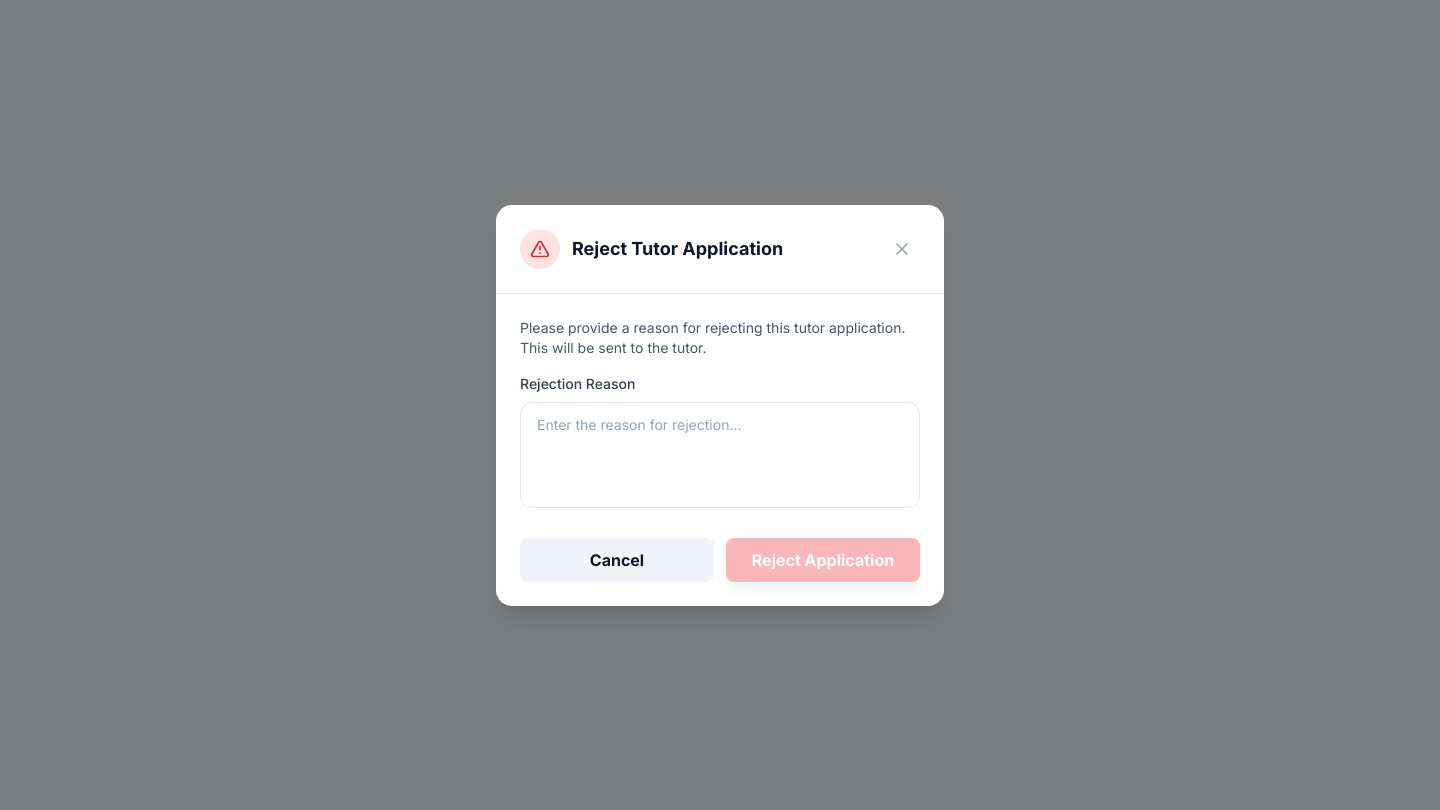
Scenario: RejectReasonModal › validation › enables submit button when valid reason is provided
Type "Valid reason for rejection" into the text box labelled "Rejection Reason".
click(720, 454); type("Valid reason for rejection")  # box [520,402,920,508]
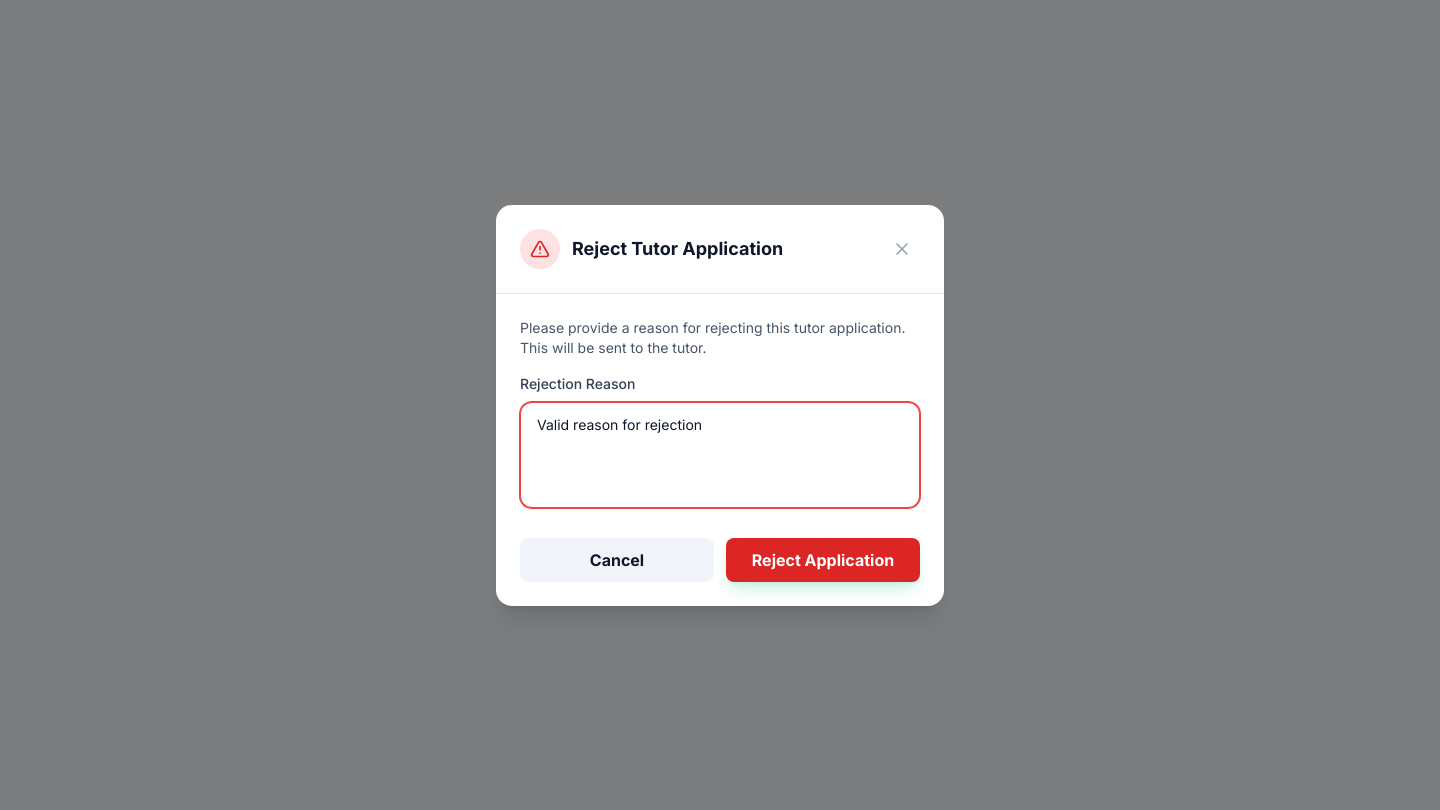
Check: the button "Reject Application" is enabled, box [726,538,920,582]
